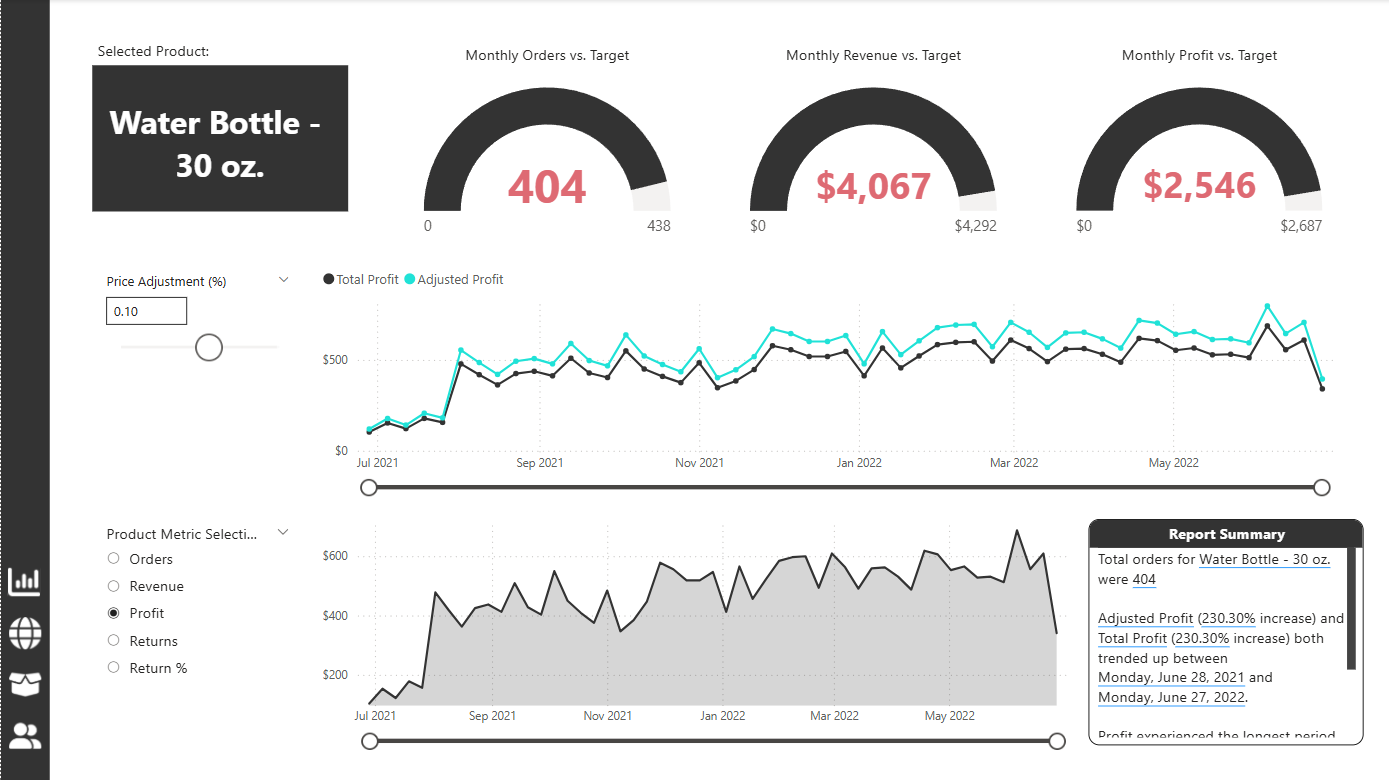

The page's visual inventory and layout, read from the dashboard file:
{"tool":"powerbi","page":{"name":"Product Detail","canvas":[1280,720],"ordinal":2},"visuals":[{"type":"shape","box":[0,0,45,720],"z":0},{"type":"actionButton","box":[2.5,516.7,45.6,37.8],"z":0,"group":"g1"},{"type":"gauge","title":"Monthly Orders vs. Target","fields":{"Y":["Measure Table.Total Orders"],"MaxValue":["Measure Table.Order Target"]},"box":[383.7,41.5,236.9,203.7],"z":1000},{"type":"actionButton","box":[3.3,563.4,45.6,37.8],"z":1000,"group":"g1"},{"type":"gauge","title":"Monthly Revenue vs. Target","fields":{"Y":["Measure Table.Total Revenue"],"MaxValue":["Measure Table.Revenue Target"]},"box":[683.5,41.5,236.9,203.7],"z":2000},{"type":"actionButton","box":[3.3,611.1,45.6,37.8],"z":2000,"group":"g1"},{"type":"gauge","title":"Monthly Profit vs. Target","fields":{"Y":["Measure Table.Total Profit"],"MaxValue":["Measure Table.Profit Target"]},"box":[983.4,41.8,236.2,203.5],"z":3000},{"type":"actionButton","box":[3.3,657.8,45.6,37.8],"z":3000,"group":"g1"},{"type":"lineChart","title":"Profit Trending","fields":{"Category":["Calendar Lookup.Date Hierarchy.Year","Calendar Lookup.Date Hierarchy.Start of Month","Calendar Lookup.Date Hierarchy.Start of Week","Calendar Lookup.Date Hierarchy.Date"],"Y":["Measure Table.Total Profit","Measure Table.Adjusted Profit"]},"box":[290.5,237.4,952.8,221.5],"z":4000},{"type":"areaChart","title":"Return Trending","fields":{"Y":["Measure Table.Total Profit"],"Category":["Calendar Lookup.Date Hierarchy.Year","Calendar Lookup.Date Hierarchy.Start of Month","Calendar Lookup.Date Hierarchy.Start of Week","Calendar Lookup.Date Hierarchy.Date"]},"box":[290.5,471.3,708.7,221.5],"z":5000},{"type":"card","fields":{"Values":["Min(Product Lookup.ProductName)"]},"box":[83.6,61,235.1,134.5],"z":6000},{"type":"textbox","box":[83.6,32.8,136.8,36.2],"z":7000},{"type":"group","id":"g1","title":"Navigation Buttons","box":[2.5,516.7,46.4,178.9],"z":8000},{"type":"slicer","fields":{"Values":["Price Adjustment (%).Price Adjustment (%)"]},"box":[83.6,245.3,193.3,123.2],"z":9000},{"type":"slicer","fields":{"Values":["Product Metric Selection.Product Metric Selection"]},"box":[83.6,477,193.3,180.8],"z":10000},{"type":"textbox","title":"Report Summary","box":[999.2,478.1,253.2,208],"z":11000}]}

Visuals, with their boxes on the page's 1280x720 design canvas (x1, y1, x2, y2). These are canvas units, not pixel positions in the 1389x780 screenshot, which may show the page scaled, cropped or inside an application window:
shape: select_region(0, 0, 45, 720)
actionButton: select_region(2, 517, 48, 554)
"Monthly Orders vs. Target" gauge: select_region(384, 42, 621, 245)
actionButton: select_region(3, 563, 49, 601)
"Monthly Revenue vs. Target" gauge: select_region(684, 42, 920, 245)
actionButton: select_region(3, 611, 49, 649)
"Monthly Profit vs. Target" gauge: select_region(983, 42, 1220, 245)
actionButton: select_region(3, 658, 49, 696)
"Profit Trending" lineChart: select_region(290, 237, 1243, 459)
"Return Trending" areaChart: select_region(290, 471, 999, 693)
card - Min(Product Lookup.ProductName): select_region(84, 61, 319, 196)
textbox: select_region(84, 33, 220, 69)
"Navigation Buttons" group: select_region(2, 517, 49, 696)
slicer - Price Adjustment (%).Price Adjustment (%): select_region(84, 245, 277, 368)
slicer - Product Metric Selection.Product Metric Selection: select_region(84, 477, 277, 658)
"Report Summary" textbox: select_region(999, 478, 1252, 686)
